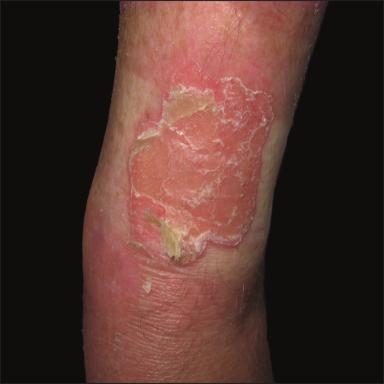Porokeratosis: (128, 70, 276, 264)
